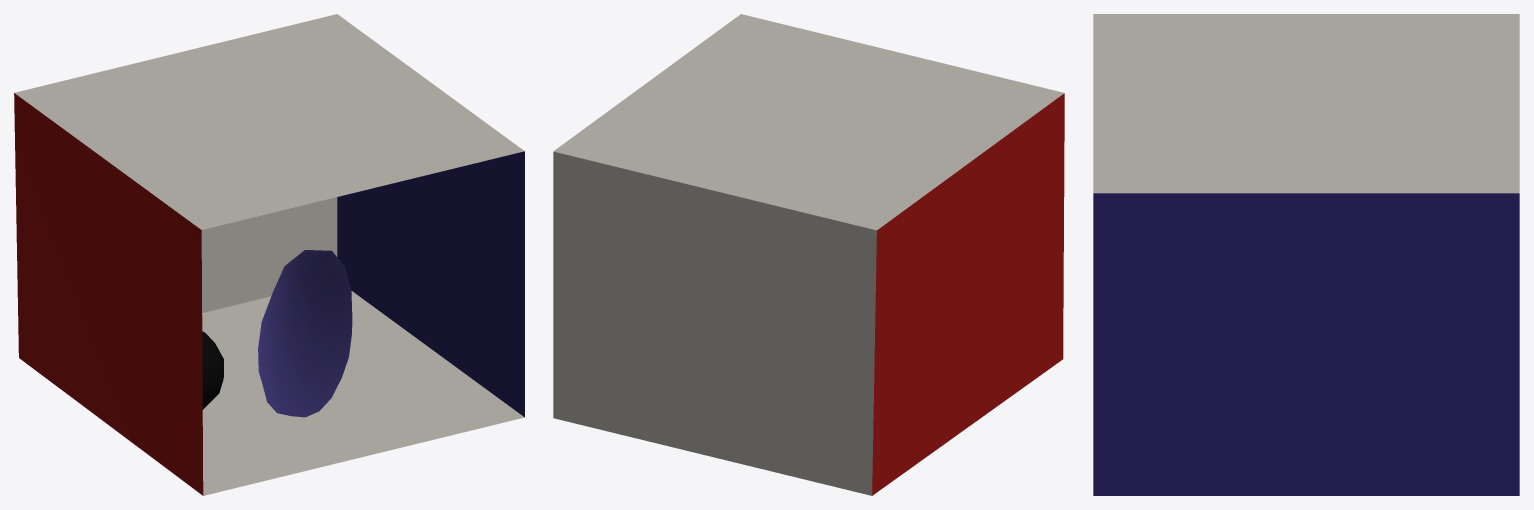
Rendered from CornellBox-Ellipsoid-381.obj.
The picture shows the model from 3 angles, left to right: view 1: azimuth 30°, elevation 25°; view 2: azimuth 150°, elevation 25°; view 3: azimuth 270°, elevation 25°; orthographic projection. The views are drawn at different scales.
Parts seen in each view (by area): view 1: ceiling, leftWall, rightWall, floor, leftSphere, backWall, rightSphere; view 2: backWall, ceiling, leftWall; view 3: rightWall, ceiling.
Part boxes in pixels (x1,y1,x2,y2): ceiling: [14, 14, 524, 229]; leftWall: [14, 93, 203, 495]; rightWall: [337, 151, 524, 417]; floor: [202, 291, 524, 495]; leftSphere: [258, 250, 352, 417]; backWall: [201, 197, 337, 312]; rightSphere: [202, 331, 223, 409]; backWall: [553, 151, 876, 495]; ceiling: [553, 14, 1064, 230]; leftWall: [872, 93, 1064, 495]; rightWall: [1093, 193, 1519, 495]; ceiling: [1093, 14, 1519, 193].
Size of the model in its own units: 2.02 by 1.59 by 2.03.
